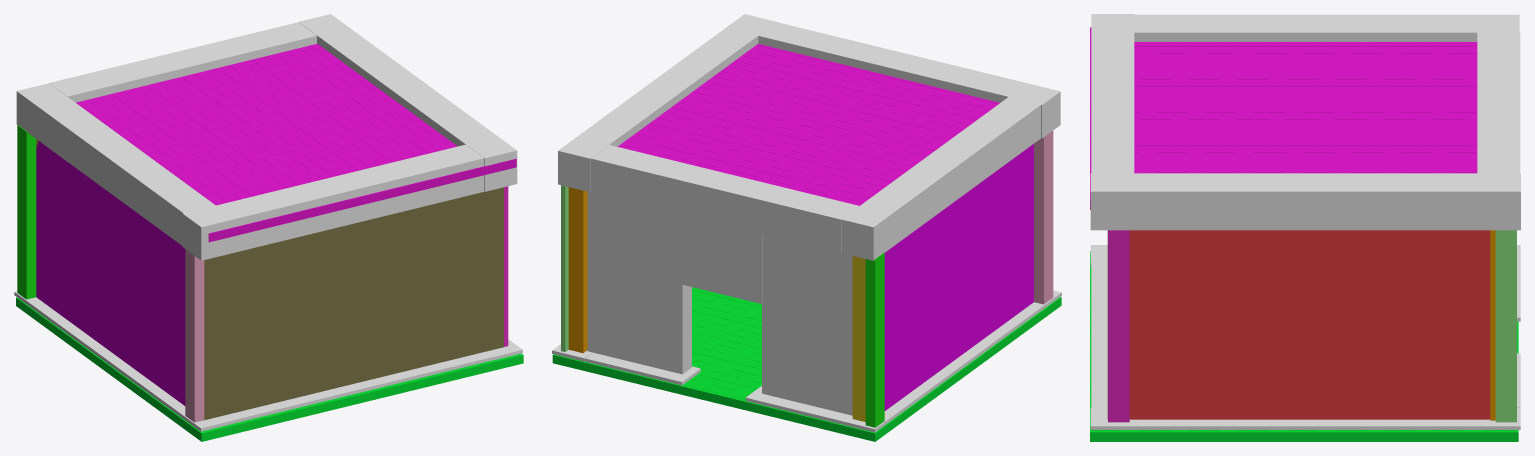
3 views of the same model, side by side, from view 1: azimuth 30°, elevation 25°; view 2: azimuth 150°, elevation 25°; view 3: azimuth 270°, elevation 25° (orthographic). The views are drawn at different scales.
Visible parts, largest first — view 1: Cube.029, Floor.003, Cube.055, Cube.062, Cube.058, Cube.063, Cube.057, Floor.002, Cube.060, Cube.064, Cube.068, Cube.059 (+4 smaller); view 2: Cube.056, Floor.003, Cube.055, Floor.002, Cube.057, Cube.062, Cube.063, Cube.058, Cube.061, Cube.059, Cube.064, Cube.068 (+7 smaller); view 3: Cube.054, Floor.003, Cube.063, Cube.062, Cube.026, Cube.058, Cube.057, Floor.002, Cube.050, Cube.069, Cube.070, Cube.051 (+1 smaller).
Boxes of the visible parts, x1,y1,x2,y2 form: Cube.029: (204,187,503,420); Floor.003: (76,43,516,242); Cube.055: (36,141,185,405); Cube.062: (16,83,215,228); Cube.058: (182,144,484,243); Cube.063: (299,14,517,173); Cube.057: (49,22,316,102); Floor.002: (16,297,523,441); Cube.060: (182,175,484,260); Cube.064: (17,125,36,299); Cube.068: (185,249,204,422); Cube.059: (16,108,182,245); Cube.056: (587,192,852,415); Floor.003: (617,44,999,205); Cube.055: (884,144,1033,410); Floor.002: (552,287,1061,441); Cube.057: (590,145,858,236); Cube.062: (841,97,1040,243); Cube.063: (558,14,776,175); Cube.058: (758,22,1060,121); Cube.061: (590,175,841,252); Cube.059: (841,122,1040,260); Cube.064: (865,252,884,427); Cube.068: (1034,131,1053,304); Cube.054: (1129,230,1490,419); Floor.003: (1090,27,1477,209); Cube.063: (1090,173,1520,210); Cube.062: (1133,14,1519,41); Cube.026: (1090,210,1520,230); Cube.058: (1091,14,1134,173); Cube.057: (1477,32,1520,173); Floor.002: (1090,251,1518,441); Cube.050: (1090,408,1520,429); Cube.069: (1108,230,1129,422); Cube.070: (1495,230,1516,422); Cube.051: (1091,262,1107,407).
Bounding box in the file's own units: 2 × 2 × 1.27.
